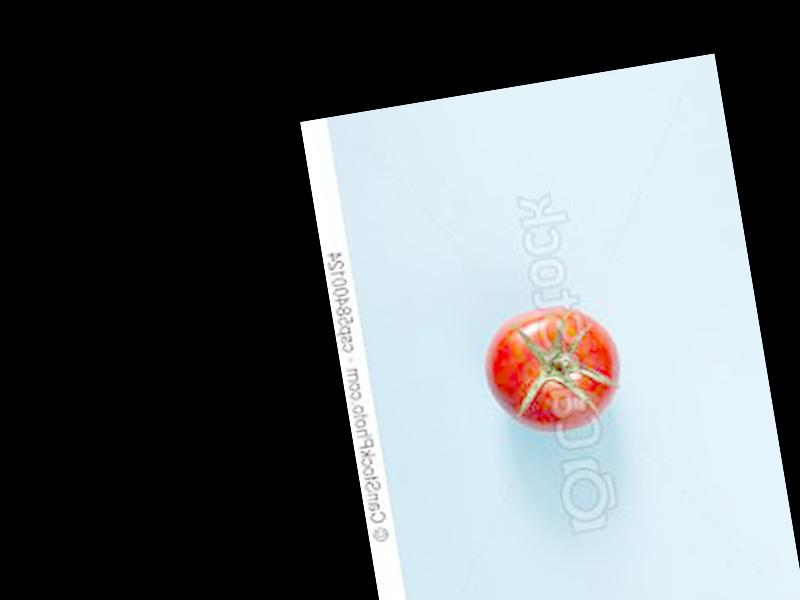Tomato: (474, 299, 627, 439)
